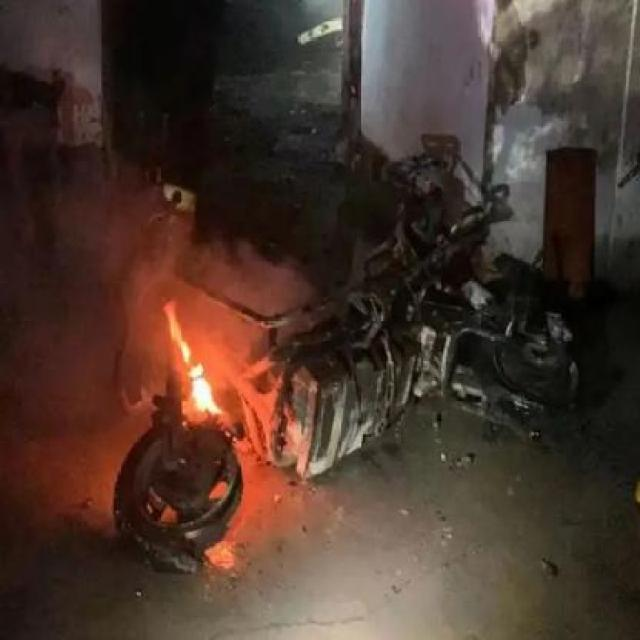Fire: (168, 300, 222, 422)
Smoke: (106, 196, 296, 370)
